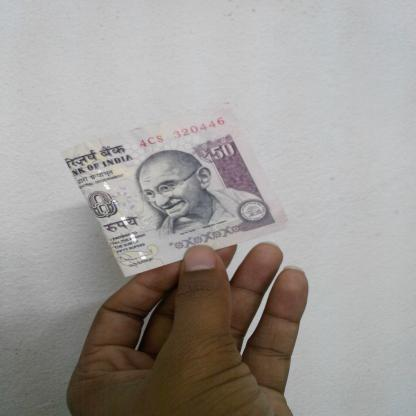Old50Front: (60, 102, 290, 277)
